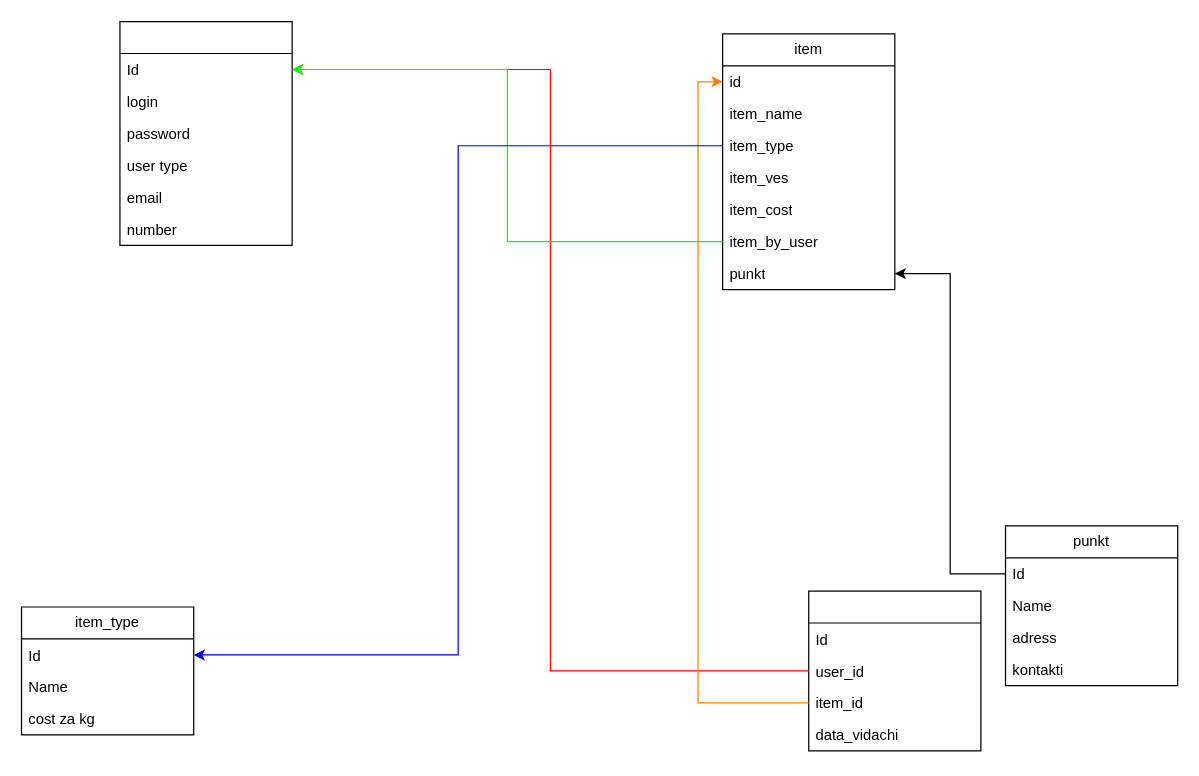
Image size: 1199x776. Some labels were removed from this diagram. The shapes that lost their labels are listed below. From the top down, each one's box as (x1, y1, x2, y2) in pixels, then its label:
(119, 20, 292, 245): users
(807, 590, 981, 751): zakaz
